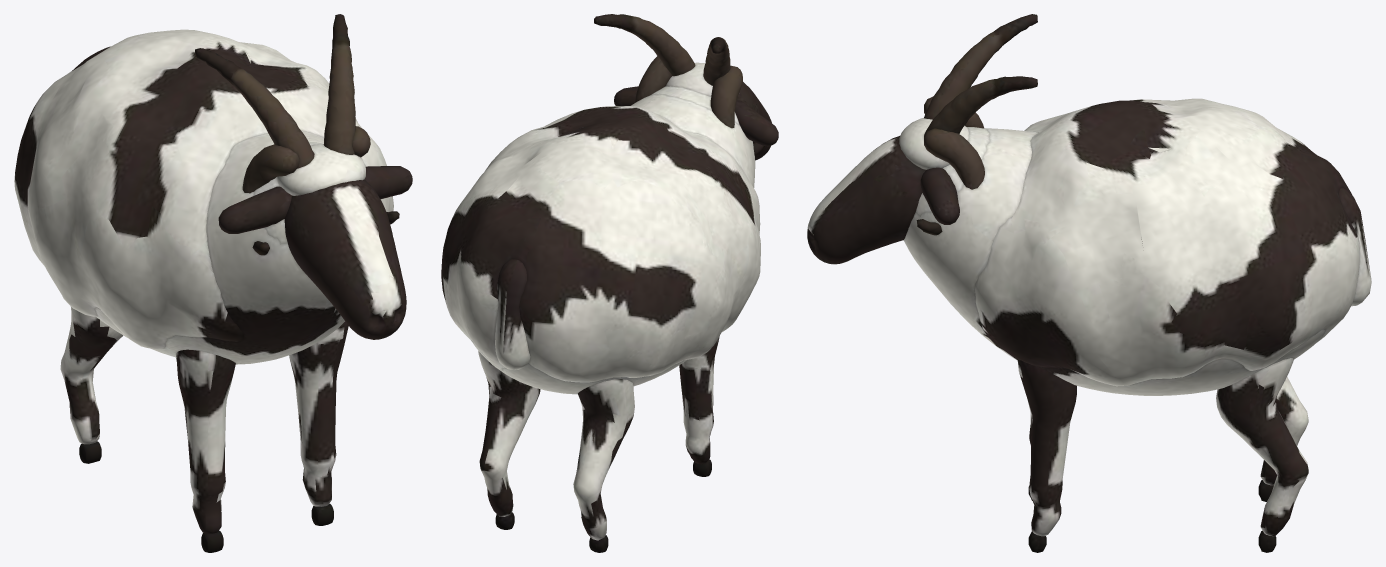
The model's file is animal_jacob_sheep.glb.
The picture shows the model from 3 angles, left to right: view 1: azimuth 30°, elevation 25°; view 2: azimuth 150°, elevation 25°; view 3: azimuth 270°, elevation 25°; orthographic projection. The views are drawn at different scales.
Visible parts, largest first — view 1: animal_jacob_sheep, head, leg0, leg1, leg2; view 2: animal_jacob_sheep, head, leg2, leg3, leg0, tail; view 3: animal_jacob_sheep, head, leg3, leg1, leg2, tail.
Part boxes in pixels (box(x1,y1,x2,y2)): animal_jacob_sheep: box(14, 29, 393, 364); head: box(195, 14, 412, 339); leg0: box(176, 349, 235, 552); leg1: box(289, 321, 348, 525); leg2: box(60, 306, 122, 463); animal_jacob_sheep: box(441, 86, 760, 394); head: box(594, 14, 778, 160); leg2: box(573, 379, 634, 552); leg3: box(478, 351, 540, 529); leg0: box(679, 336, 719, 476); tail: box(495, 259, 530, 369); animal_jacob_sheep: box(903, 98, 1359, 395); head: box(807, 14, 1037, 264); leg3: box(1216, 358, 1308, 552); leg1: box(1017, 360, 1076, 552); leg2: box(1258, 376, 1308, 501); tail: box(1339, 187, 1371, 306).
Bounding box in the file's own units: 0.3047 × 0.485 × 0.5169.
Materials: 1 (1 with a texture image).
